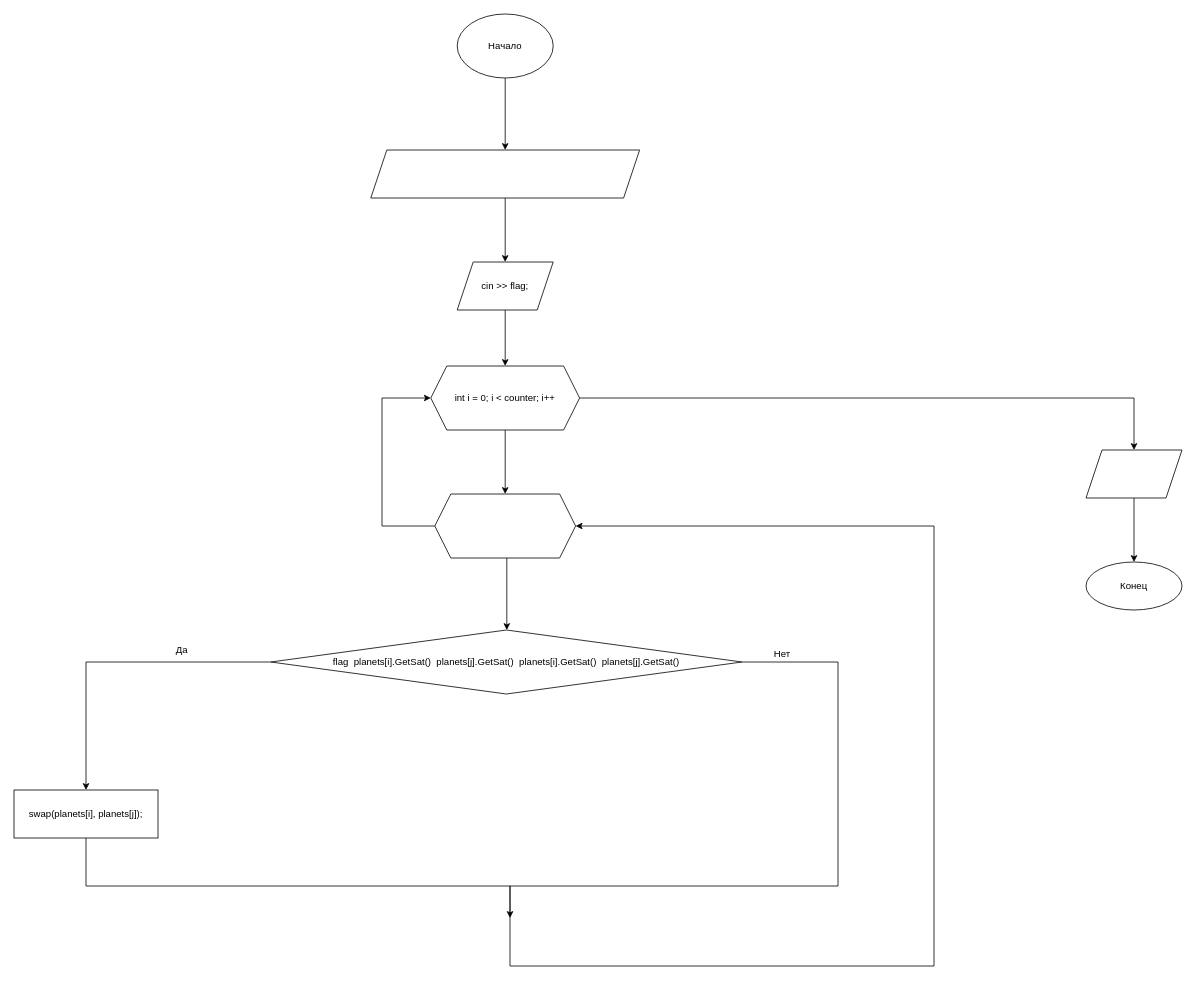
Some shapes in this 1196 by 986 pixel diagram are drawn without their labels. The shapes that lost their labels are listed below. From the top down, each one's box as (x1, y1, x2, y2) in pixels, then its label:
(370, 149, 640, 198): cout << "Сортировать по возрастанию? ";
(1085, 449, 1182, 498): PrintPlanets();
(434, 493, 576, 558): int j = i + 1; j < counter; j++
